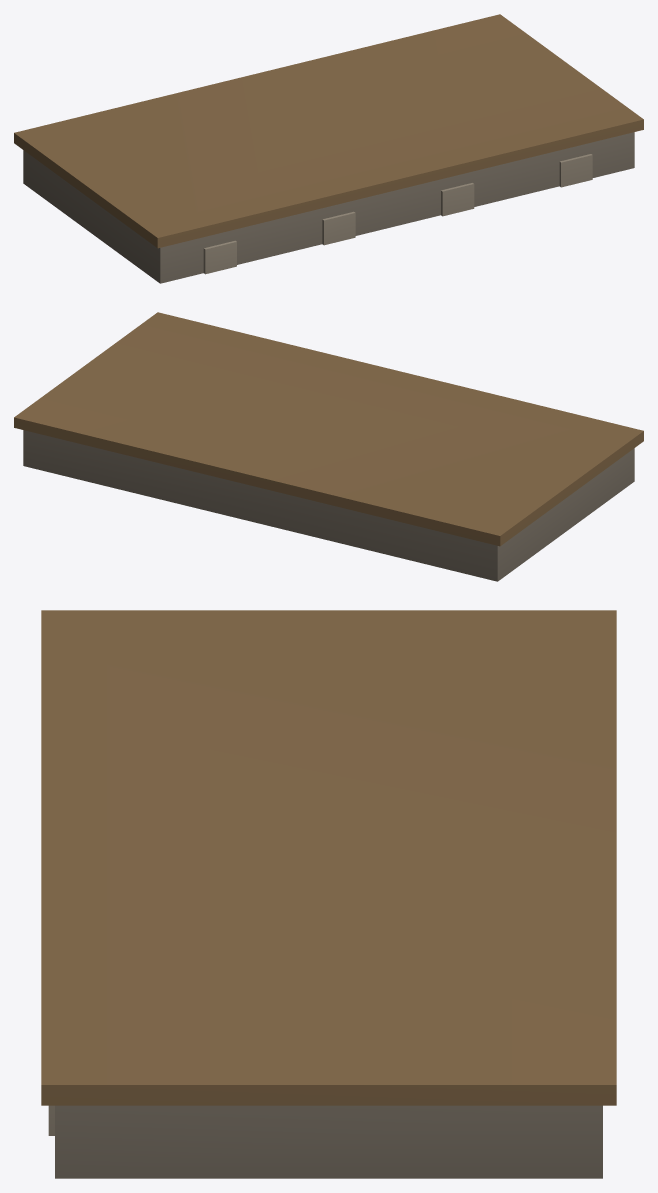
The model's file is wari_terrace_lod0.glb.
3 renders of one model, top to bottom at view 1: azimuth 30°, elevation 25°; view 2: azimuth 150°, elevation 25°; view 3: azimuth 270°, elevation 25°, orthographic. The views are drawn at different scales.
Parts seen in each view (by area): view 1: GEO-Arch_wari_terrace_LOD0; view 2: GEO-Arch_wari_terrace_LOD0; view 3: GEO-Arch_wari_terrace_LOD0.
Part boxes in pixels (x1,y1,x2,y2): GEO-Arch_wari_terrace_LOD0: (14,14,643,283); GEO-Arch_wari_terrace_LOD0: (14,312,643,581); GEO-Arch_wari_terrace_LOD0: (41,610,616,1178).
Size of the model in its own units: 12.3 by 1.2 by 6.3.
